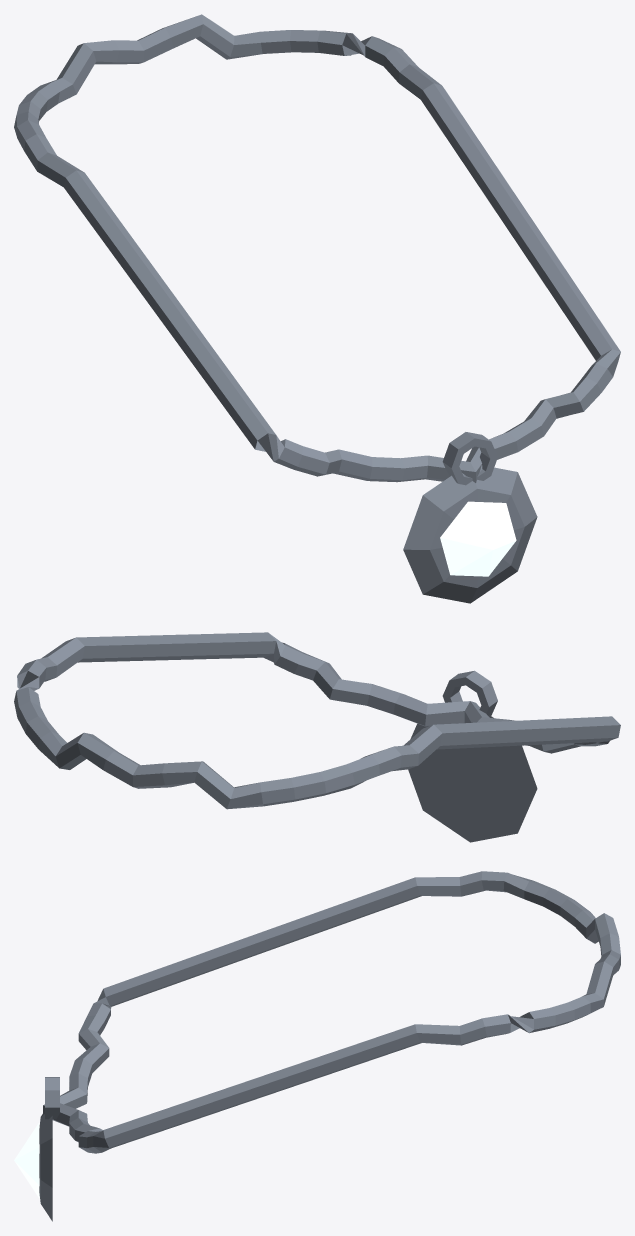
File: armor_amulet_rare_human.glb
3 renders of one model, top to bottom at view 1: azimuth 30°, elevation 25°; view 2: azimuth 150°, elevation 25°; view 3: azimuth 270°, elevation 25°, orthographic. The views are drawn at different scales.
Visible parts, largest first — view 1: armor_amulet_rare_human__spine_03; view 2: armor_amulet_rare_human__spine_03; view 3: armor_amulet_rare_human__spine_03.
Part boxes in pixels (x1,y1,x2,y2): armor_amulet_rare_human__spine_03: [14, 14, 620, 603]; armor_amulet_rare_human__spine_03: [14, 632, 620, 842]; armor_amulet_rare_human__spine_03: [14, 871, 620, 1221].
Bounding box in the file's own units: 22.13 × 18.59 × 36.22.
